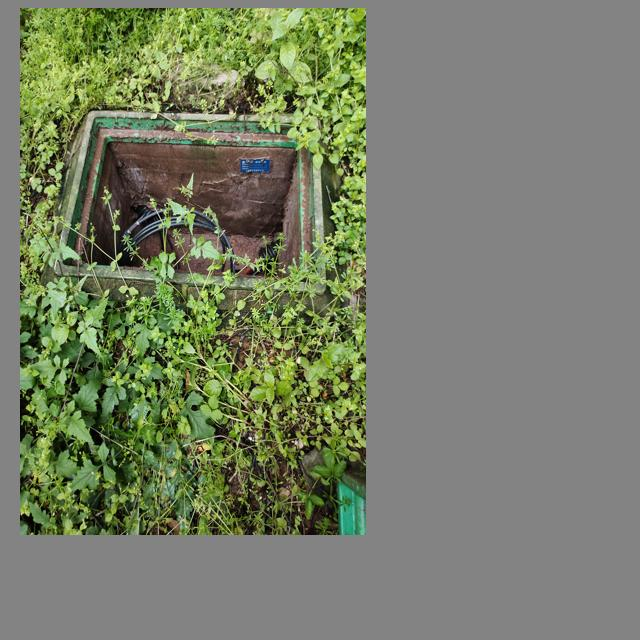lose: (53, 101, 329, 310)
